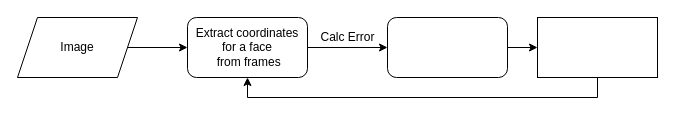
Image size: 675x123. Some labels were removed from this diagram. The shapes that lost their labels are listed below. From the top down, each one's box as (x1, y1, x2, y2) in pixels, then its label:
(386, 16, 508, 78): Generate PID Command using error
(536, 16, 658, 78): Generate and Send command to servos
